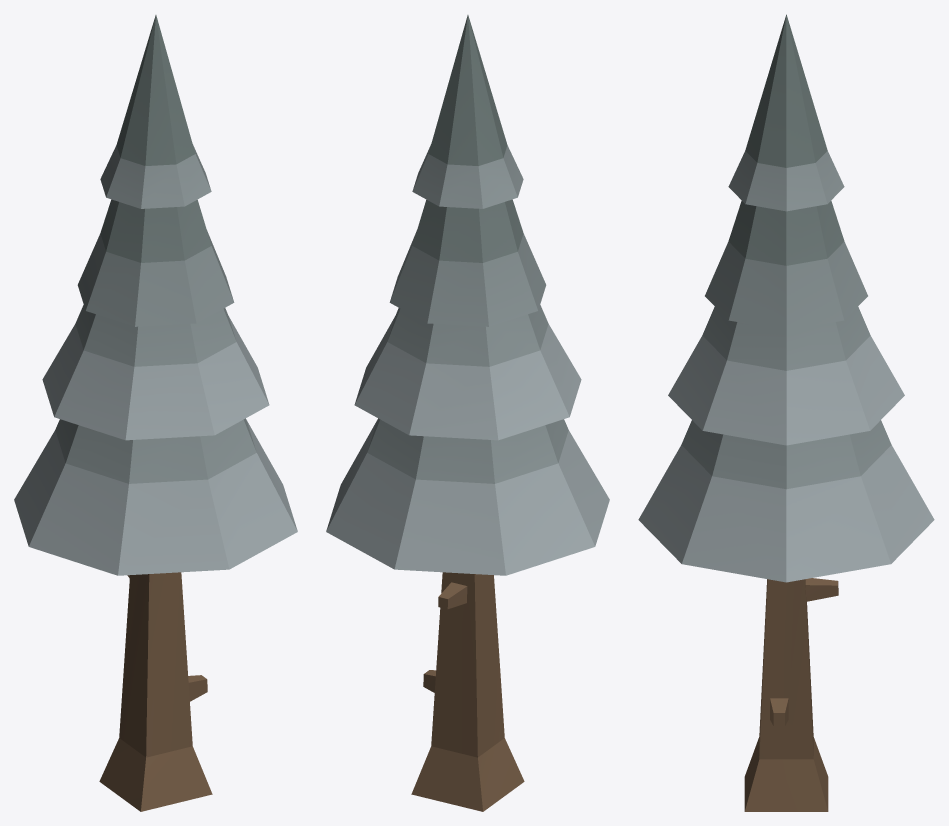
File: tree_pineDefaultA.glb
The picture shows the model from 3 angles, left to right: view 1: azimuth 30°, elevation 25°; view 2: azimuth 150°, elevation 25°; view 3: azimuth 270°, elevation 25°; orthographic projection.
Parts seen in each view (by area): view 1: tree_pineDefaultA; view 2: tree_pineDefaultA; view 3: tree_pineDefaultA.
Part boxes in pixels (bbox=[...]): tree_pineDefaultA: bbox=[14, 15, 297, 811]; tree_pineDefaultA: bbox=[326, 15, 609, 811]; tree_pineDefaultA: bbox=[638, 14, 934, 811].
Size of the model in its own units: 0.532 by 1.55 by 0.532.
